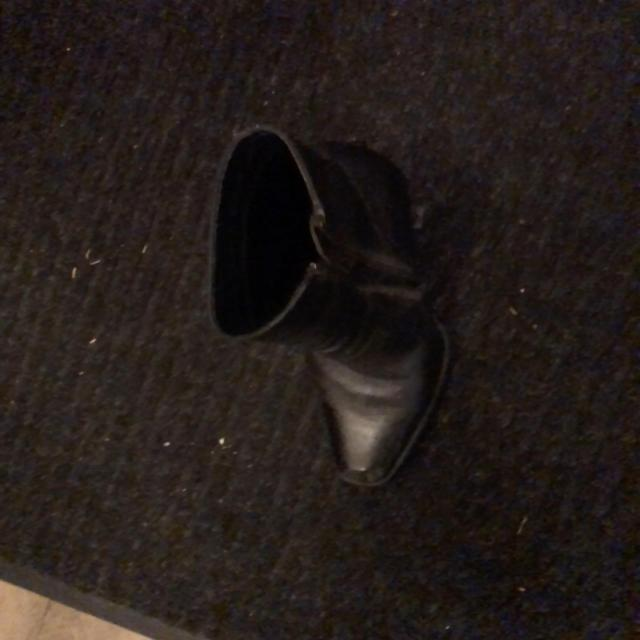shoe: (209, 126, 453, 493)
